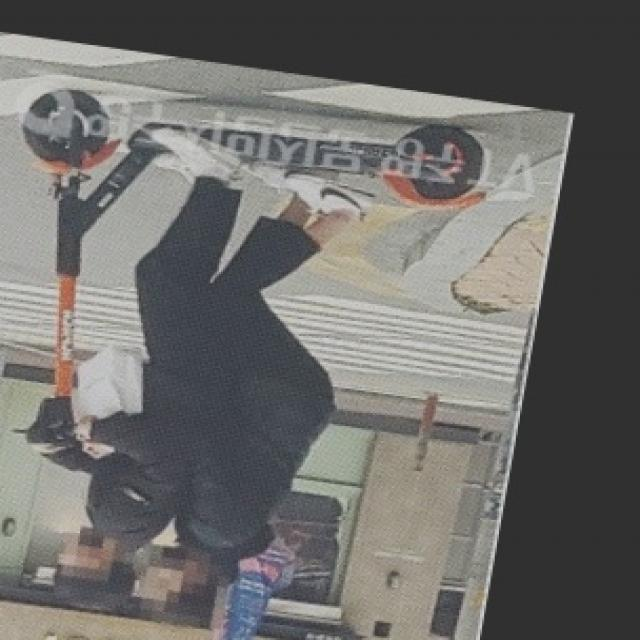helmet: (77, 450, 182, 547)
human: (155, 134, 373, 607), (63, 125, 249, 549), (135, 545, 219, 624)
kickboard: (25, 71, 491, 236)
